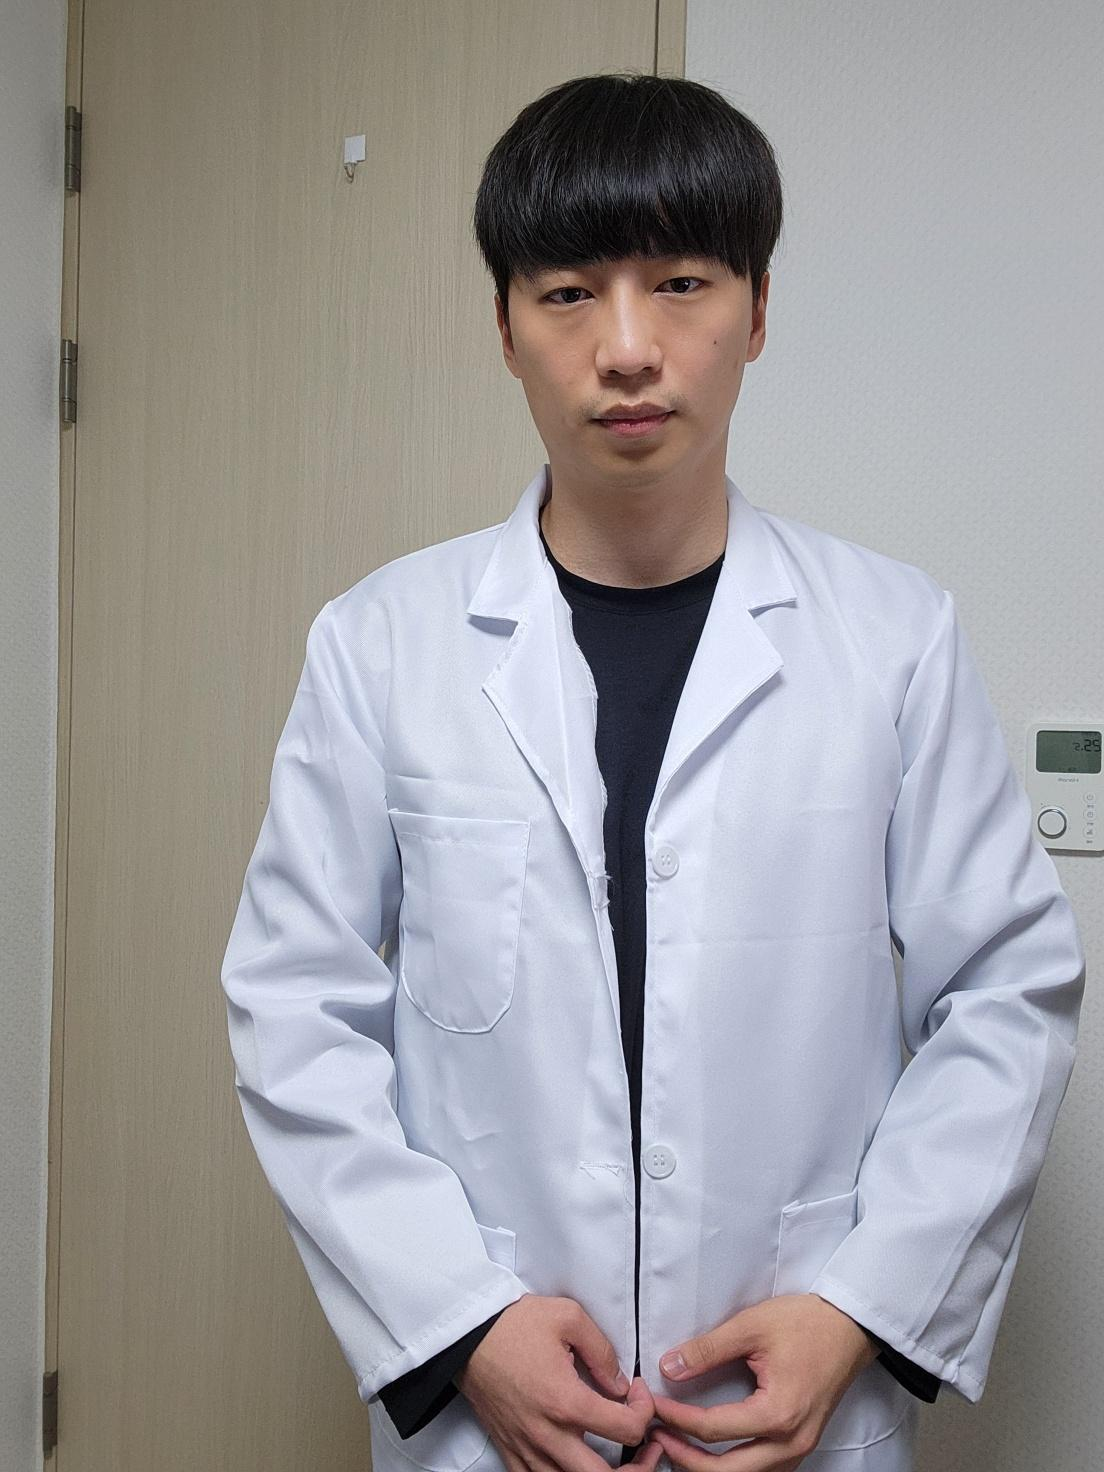lab_coat: (224, 461, 1081, 1471)
